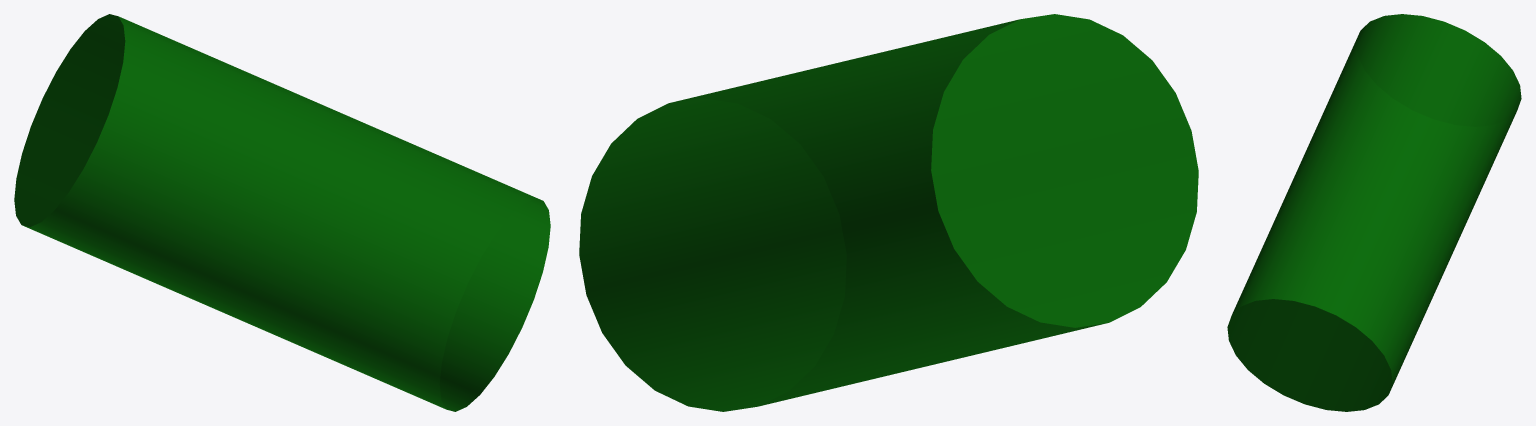
File: Event_420094457_jet_1.fbx
The picture shows the model from 3 angles, left to right: view 1: azimuth 30°, elevation 25°; view 2: azimuth 150°, elevation 25°; view 3: azimuth 270°, elevation 25°; orthographic projection. The views are drawn at different scales.
Parts seen in each view (by area): view 1: Model; view 2: Model; view 3: Model.
Part boxes in pixels (bbox=[...]): Model: bbox=[14, 14, 550, 411]; Model: bbox=[579, 14, 1198, 411]; Model: bbox=[1227, 14, 1521, 411].
Size of the model in its own units: 0.0916 by 0.0748 by 0.0666.
